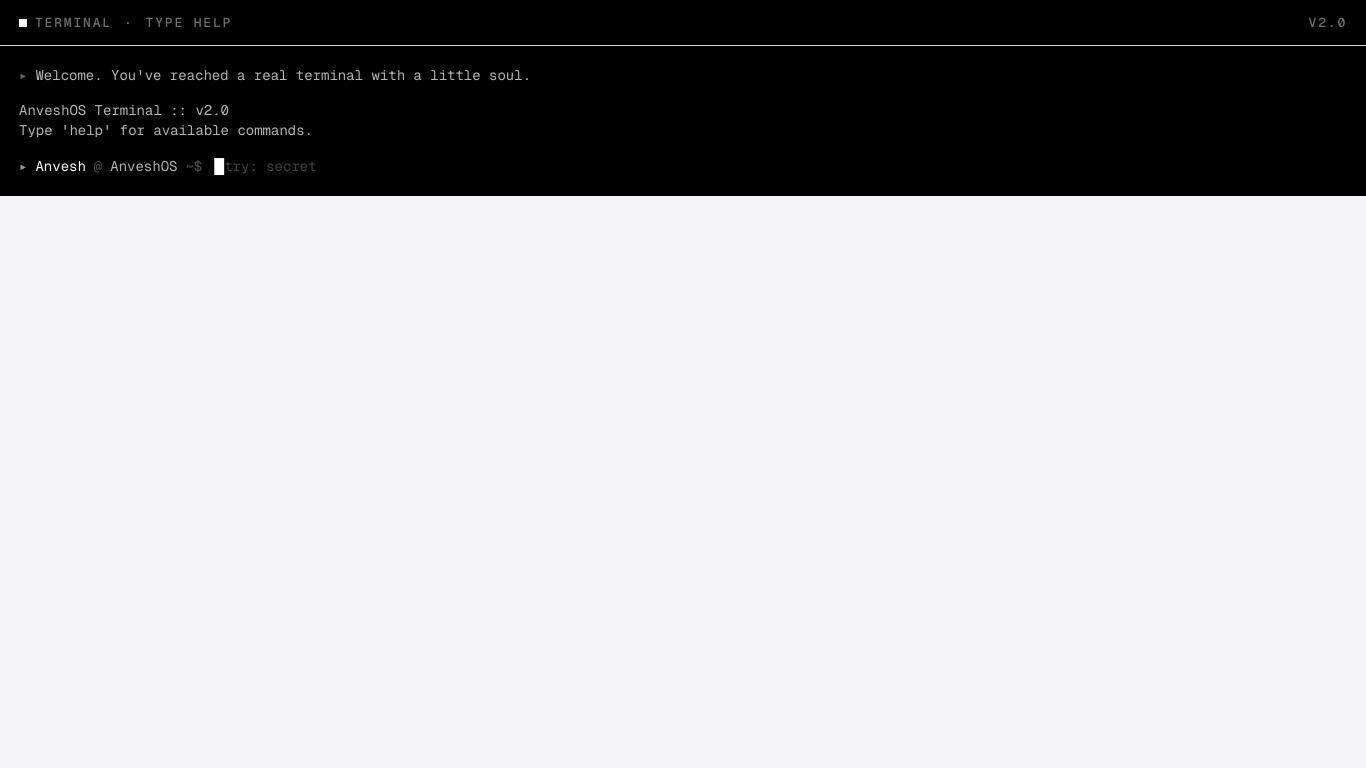
Scenario: TerminalApp command loop (must keep working) › runs a known command (help) and prints output
Type "help" into the field named "Terminal command input".
click(265, 166); type("help")  # box [214,159,317,173]
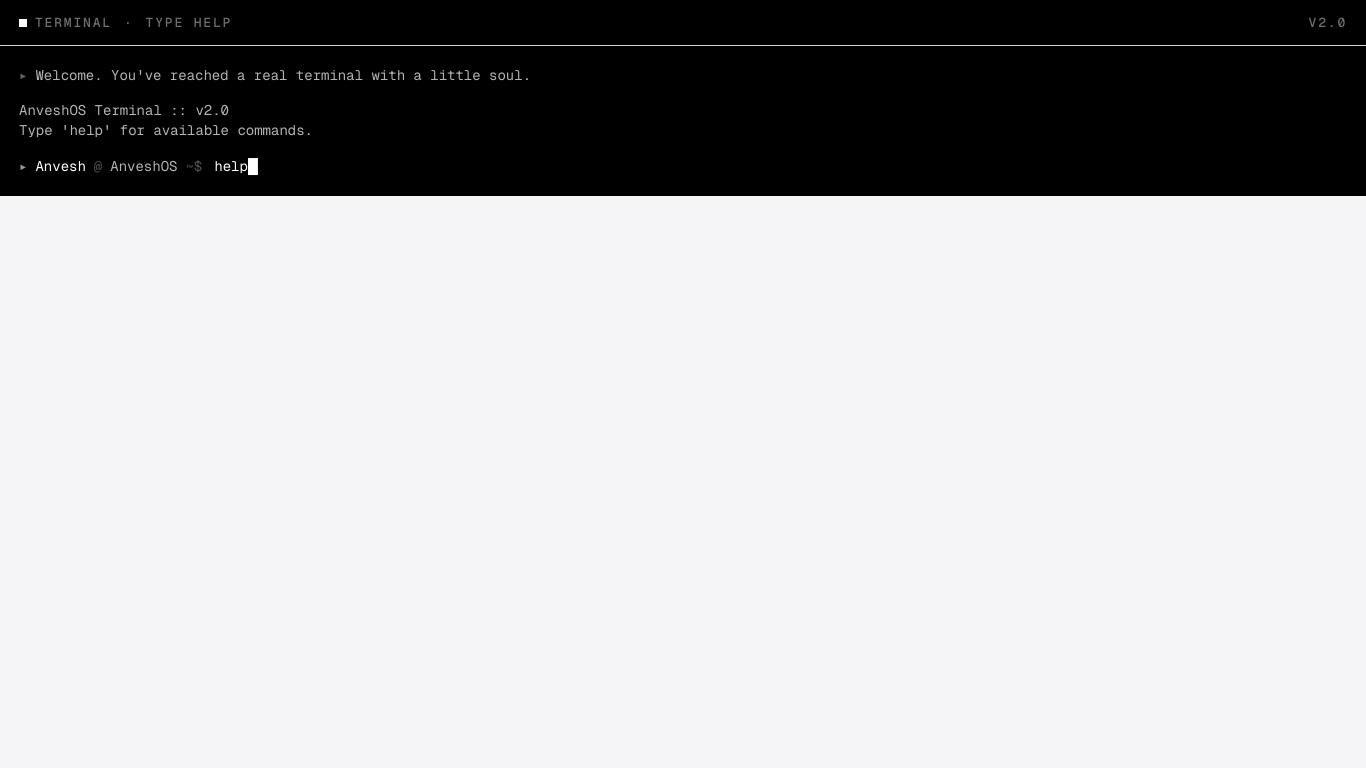
Press Enter in the field named "Terminal command input", box [214,159,258,173]
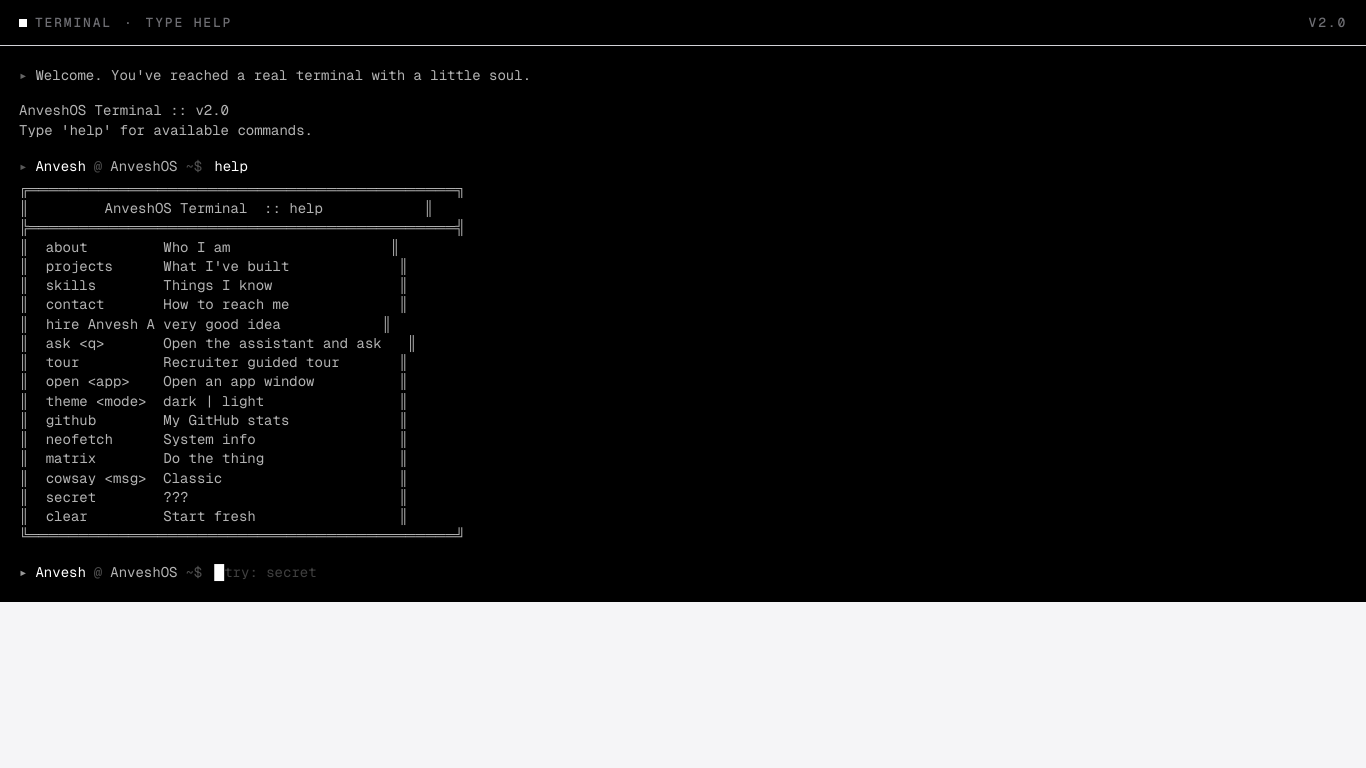
Expected: the text "║ AnveshOS Terminal :: help ║" is shown, [19,199,434,217]
